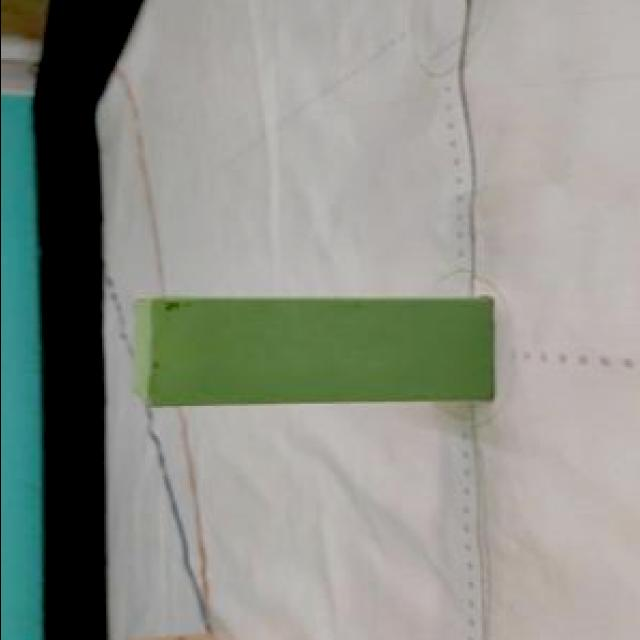greenbox: (136, 298, 498, 404)
